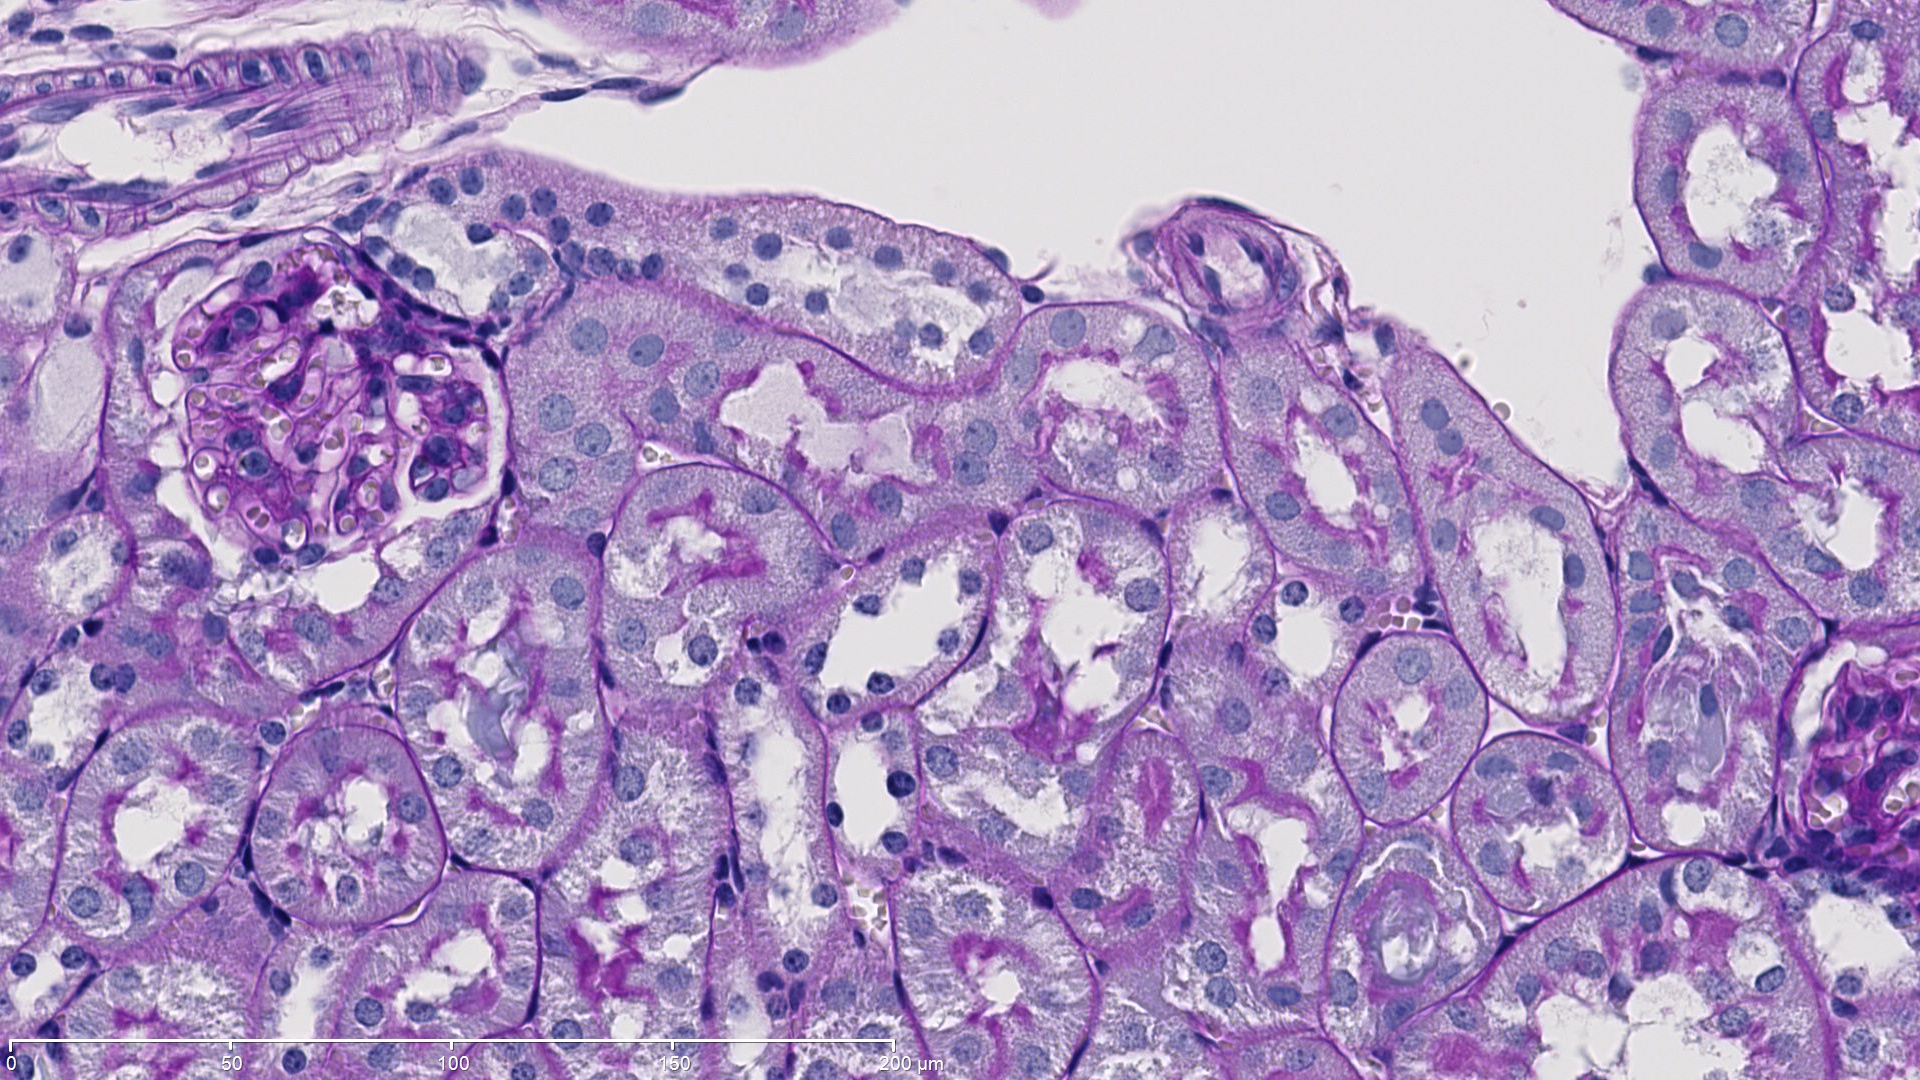Glomeruli: (175, 236, 517, 578)
